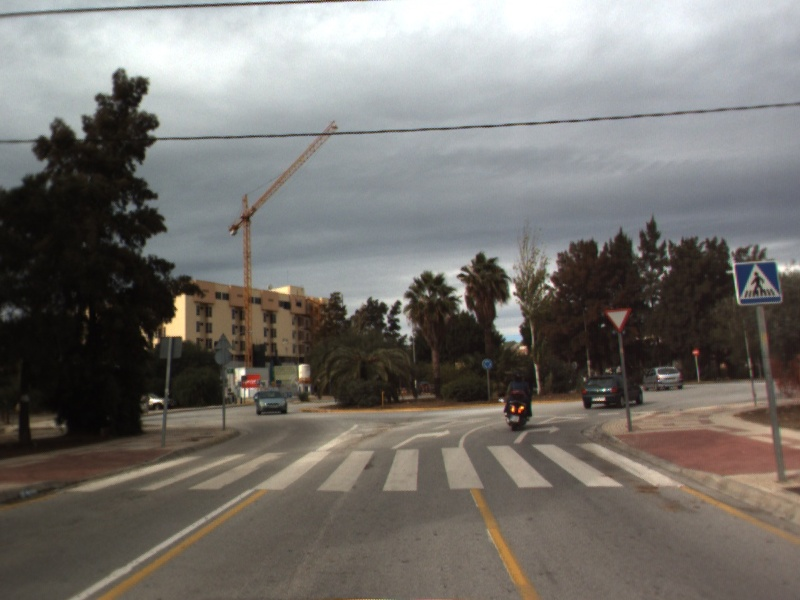RIGHT: (389, 427, 452, 451), (512, 423, 562, 446)
